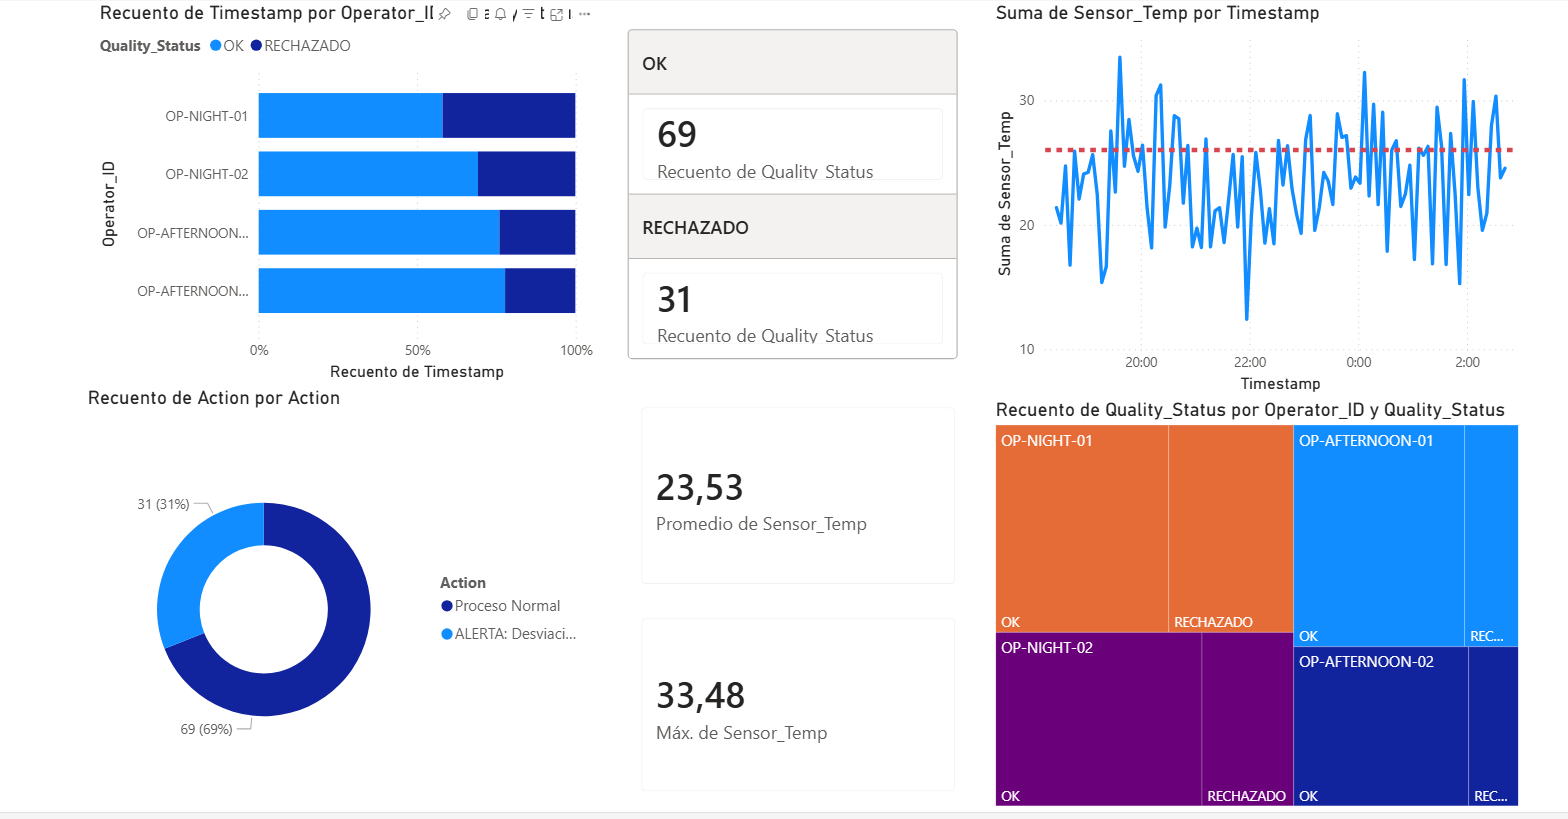

The page's visual inventory and layout, read from the dashboard file:
{"tool":"powerbi","page":{"name":"Página 1","canvas":[1280,720],"ordinal":0},"visuals":[{"type":"hundredPercentStackedBarChart","fields":{"Category":["MES_Production_Audit_Trail 5.Operator_ID"],"Series":["MES_Production_Audit_Trail 5.Quality_Status"],"Y":["CountNonNull(MES_Production_Audit_Trail 5.Timestamp)"]},"box":[10.3,0,447.5,341.8],"z":0},{"type":"lineChart","fields":{"Category":["MES_Production_Audit_Trail 5.Timestamp"],"Y":["Sum(MES_Production_Audit_Trail 5.Sensor_Temp)"]},"box":[805.8,0,474.2,352.1],"z":1000},{"type":"donutChart","fields":{"Category":["MES_Production_Audit_Trail 5.Action"],"Y":["CountNonNull(MES_Production_Audit_Trail 5.Action)"]},"box":[0,341.8,457.8,377.7],"z":2000},{"type":"cardVisual","fields":{"Data":["CountNonNull(MES_Production_Audit_Trail 5.Quality_Status)"],"Rows":["MES_Production_Audit_Trail 5.Quality_Status"]},"box":[479.4,0,303.8,343.9],"z":2001},{"type":"treemap","fields":{"Details":["MES_Production_Audit_Trail 5.Quality_Status"],"Group":["MES_Production_Audit_Trail 5.Operator_ID"],"Values":["CountNonNull(MES_Production_Audit_Trail 5.Quality_Status)"]},"box":[805.8,352.1,474.2,367.5],"z":2002},{"type":"cardVisual","fields":{"Data":["Avg(MES_Production_Audit_Trail 5.Sensor_Temp)"]},"box":[479.4,343.9,313.1,191.9],"z":2003},{"type":"cardVisual","fields":{"Data":["Max(MES_Production_Audit_Trail 5.Sensor_Temp)"]},"box":[479.4,530.7,313.1,188.9],"z":2004}]}

Visuals, with their boxes on the page's 1280x720 design canvas (x1, y1, x2, y2). These are canvas units, not pixel positions in the 1568x819 screenshot, which may show the page scaled, cropped or inside an application window:
hundredPercentStackedBarChart - MES_Production_Audit_Trail 5.Operator_ID x MES_Production_Audit_Trail 5.Quality_Status: 10:0:458:342
lineChart - MES_Production_Audit_Trail 5.Timestamp x Sum(MES_Production_Audit_Trail 5.Sensor_Temp): 806:0:1280:352
donutChart - MES_Production_Audit_Trail 5.Action x CountNonNull(MES_Production_Audit_Trail 5.Action): 0:342:458:720
cardVisual - CountNonNull(MES_Production_Audit_Trail 5.Quality_Status) x MES_Production_Audit_Trail 5.Quality_Status: 479:0:783:344
treemap - MES_Production_Audit_Trail 5.Quality_Status x MES_Production_Audit_Trail 5.Operator_ID: 806:352:1280:720
cardVisual - Avg(MES_Production_Audit_Trail 5.Sensor_Temp): 479:344:792:536
cardVisual - Max(MES_Production_Audit_Trail 5.Sensor_Temp): 479:531:792:720
